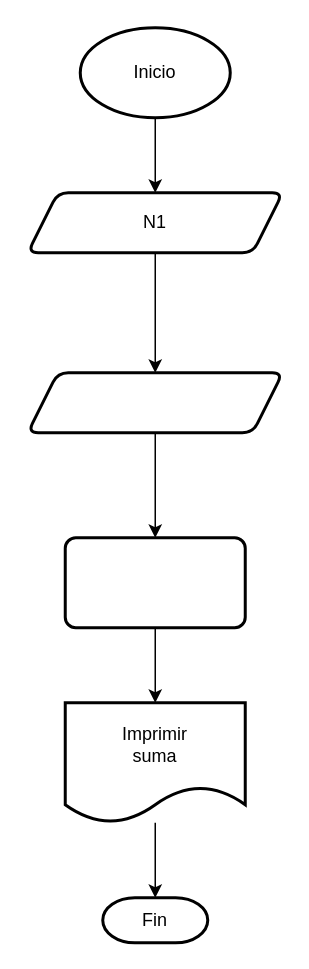
This 309x969 diagram has some shape labels left out. The shapes that lost their labels are listed below. From the top down, each one's centre as x and y in pixels, then its label:
the point at 155,402: N2
the point at 154,582: suma= n1 + n2
